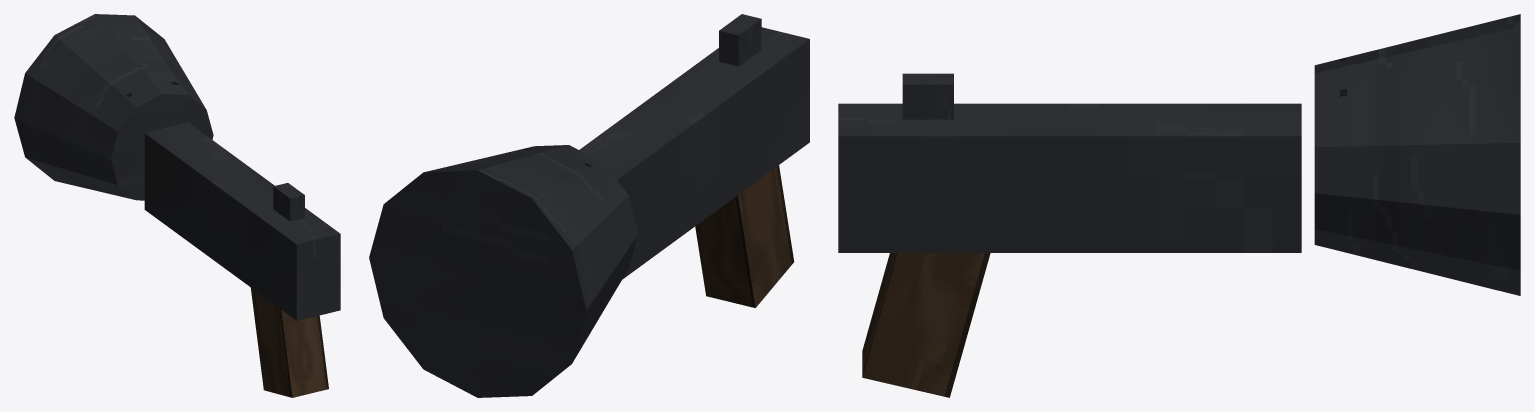
File: gun_wind.glb
3 renders of one model, left to right at view 1: azimuth 30°, elevation 25°; view 2: azimuth 150°, elevation 25°; view 3: azimuth 270°, elevation 25°, orthographic. The views are drawn at different scales.
Parts seen in each view (by area): view 1: Gun_wind; view 2: Gun_wind; view 3: Gun_wind.
Part boxes in pixels (x1=…): Gun_wind: x1=14, y1=14, x2=340, y2=397; Gun_wind: x1=369, y1=14, x2=809, y2=397; Gun_wind: x1=838, y1=14, x2=1520, y2=397.
Bounding box in the file's own units: 0.22 × 0.3065 × 0.53.
Materials: 3 (2 with a texture image).
